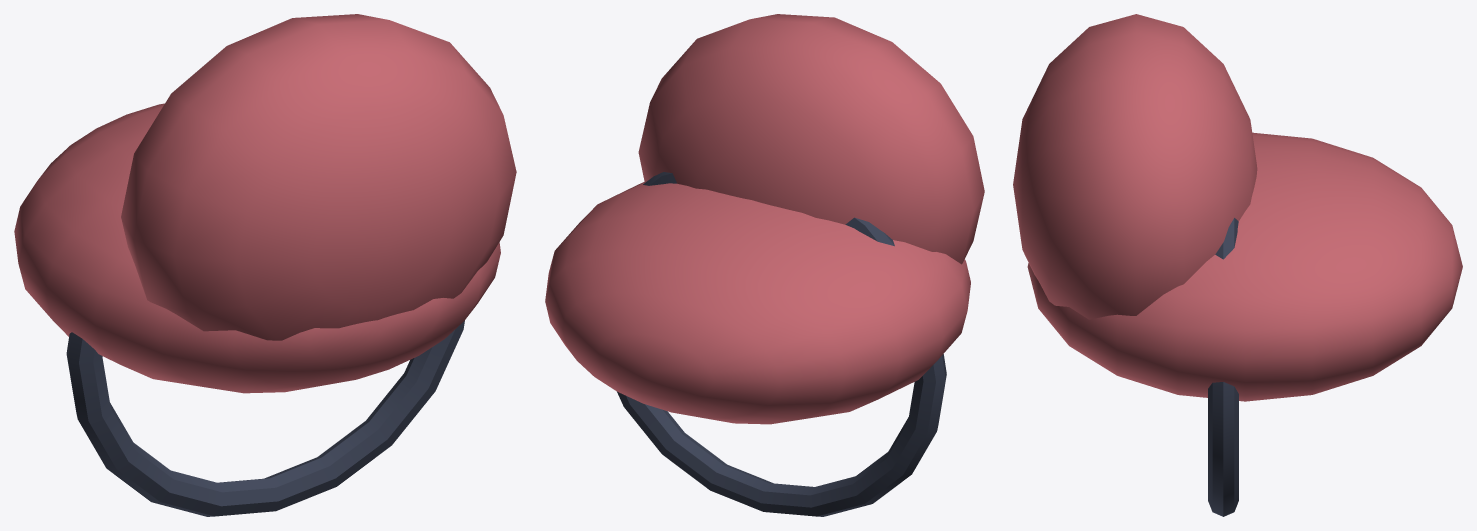
Rendered from beanbag.glb.
The picture shows the model from 3 angles, left to right: view 1: azimuth 30°, elevation 25°; view 2: azimuth 150°, elevation 25°; view 3: azimuth 270°, elevation 25°; orthographic projection. The views are drawn at different scales.
Parts seen in each view (by area): view 1: seat; view 2: seat; view 3: seat.
Boxes of the visible parts, x1,y1,x2,y2 form: seat: (14, 14, 516, 516); seat: (545, 14, 984, 516); seat: (1013, 14, 1462, 516).
Bounding box in the file's own units: 1.2 × 1.41 × 1.24.
